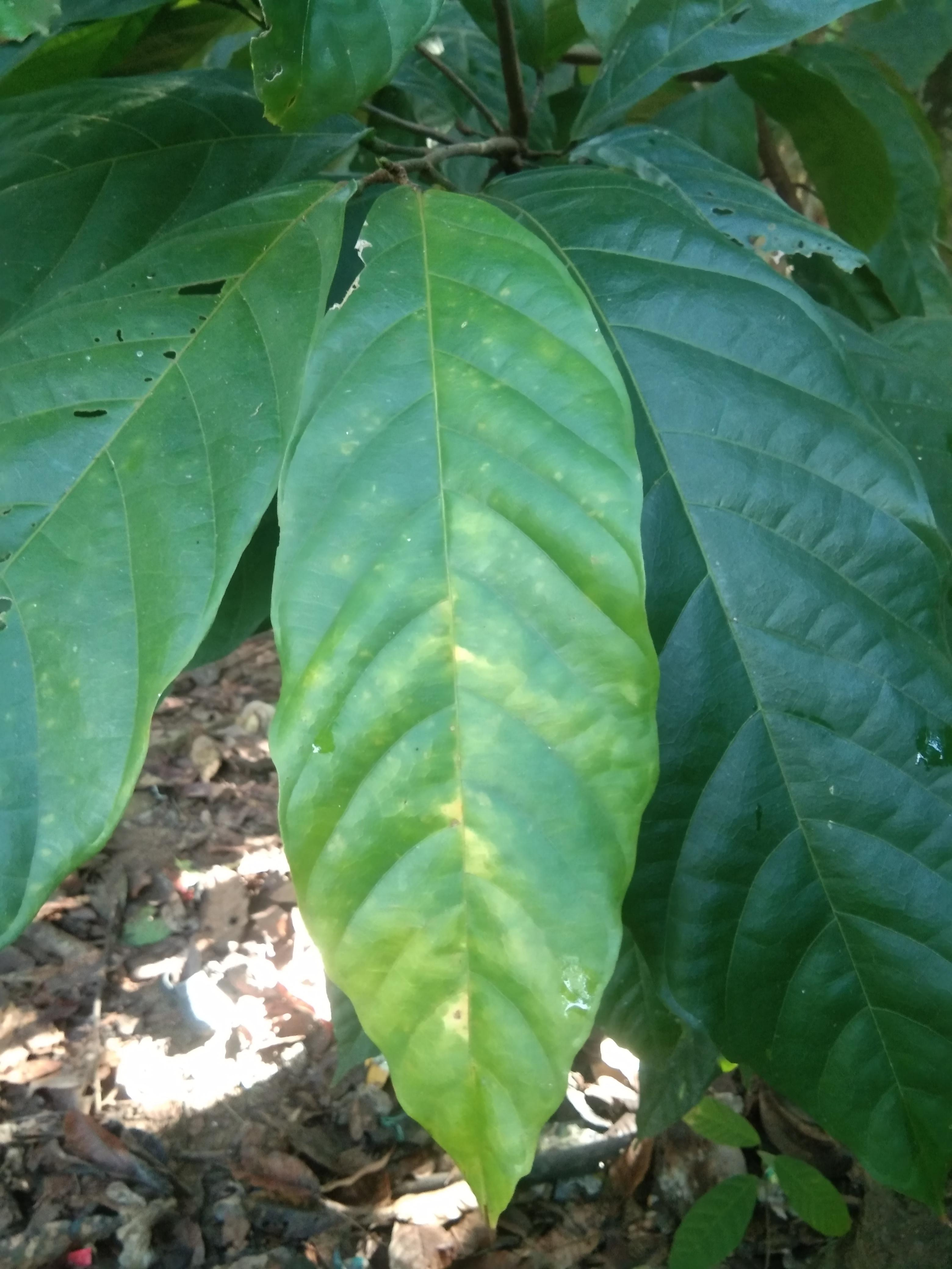deficiencia_potasio: (271, 163, 669, 1228)
